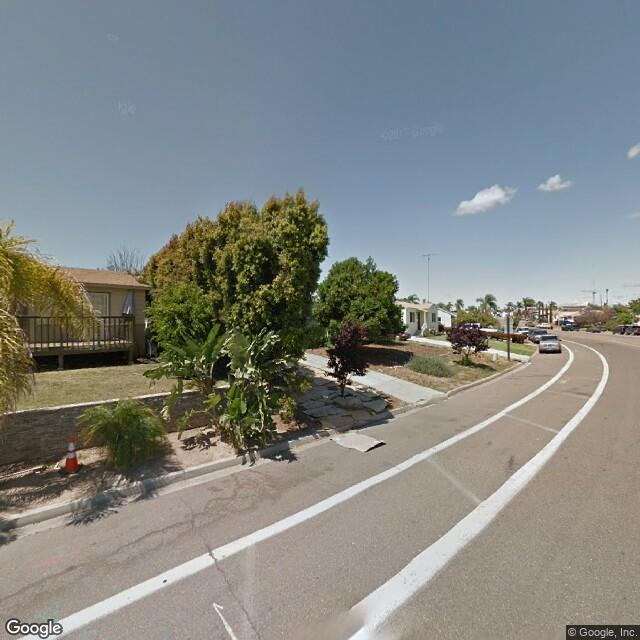litter: (329, 429, 385, 454)
